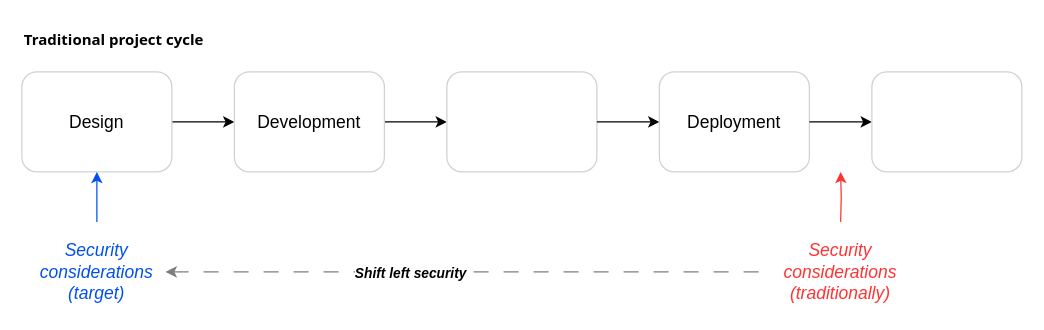
Some shapes in this 1044 by 330 pixel diagram are drawn without their labels. Each missing label, with the centre of its shape:
"Maintenance" goes at point 946,121.
"Tests" goes at point 521,121.
